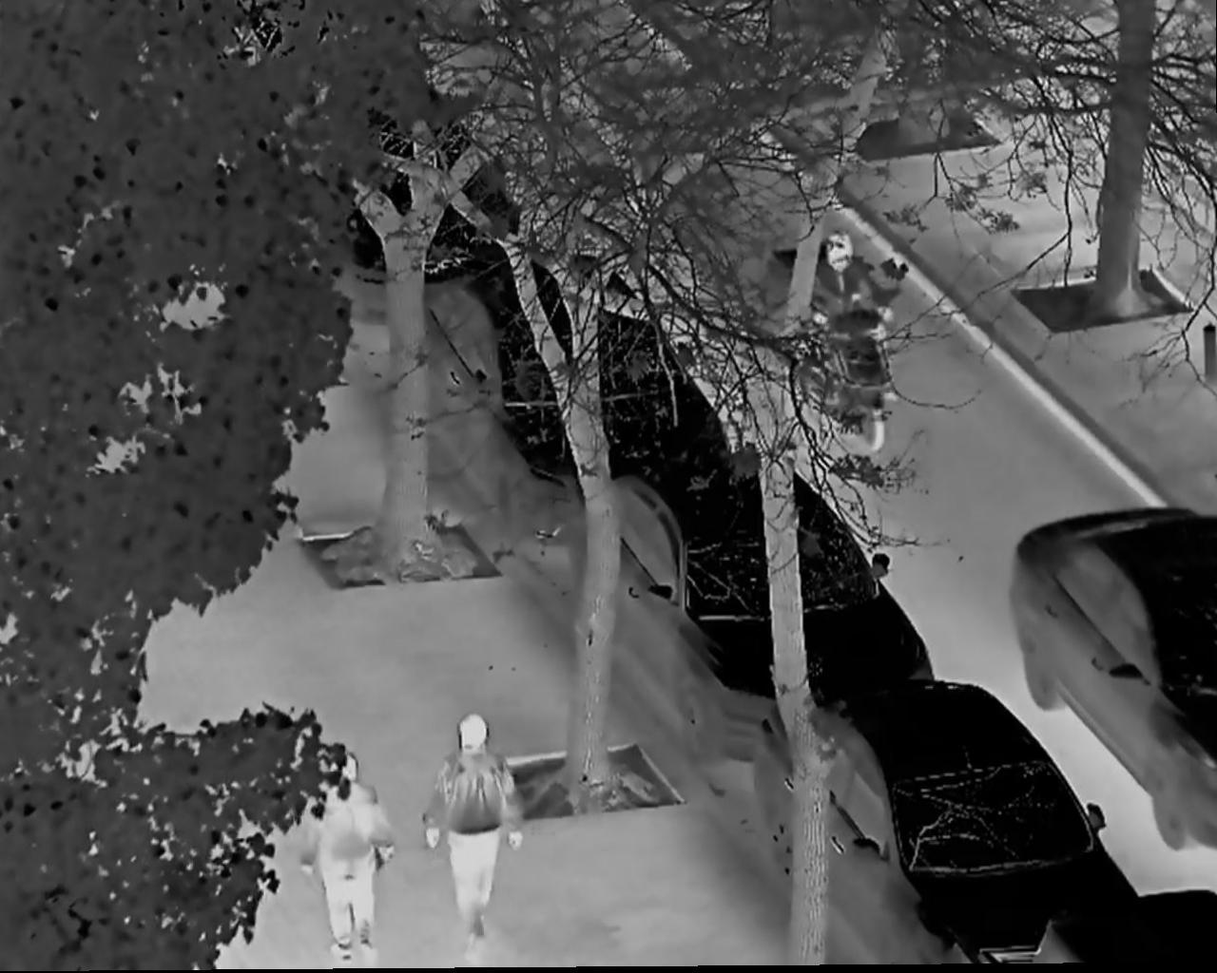person: (417, 711, 524, 963), (305, 751, 397, 963), (808, 232, 894, 422)
